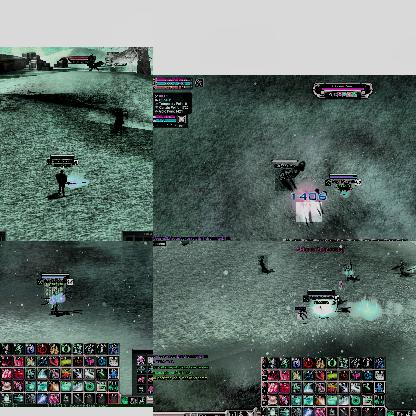caliana: (296, 202, 322, 222), (110, 108, 128, 136), (275, 169, 295, 191), (392, 260, 406, 276), (258, 255, 268, 275), (344, 263, 354, 281), (406, 261, 416, 279)
